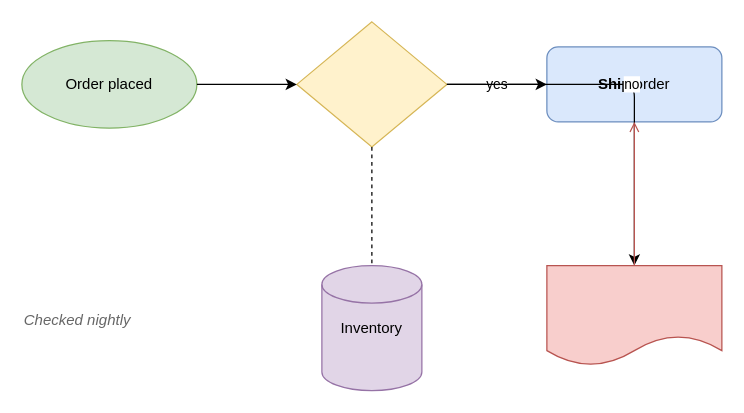
This 744x413 diagram has some shape labels left out. Here are the shapes that lost their labels. From the top down, the centre of each, then its label:
At pixel 371 84: "In stock?".
At pixel 634 315: "Back-order".
